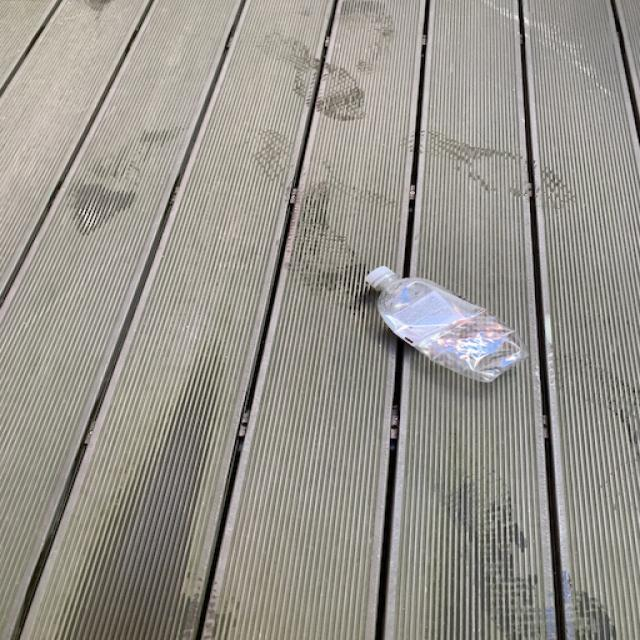Waste: (366, 266, 529, 383)
